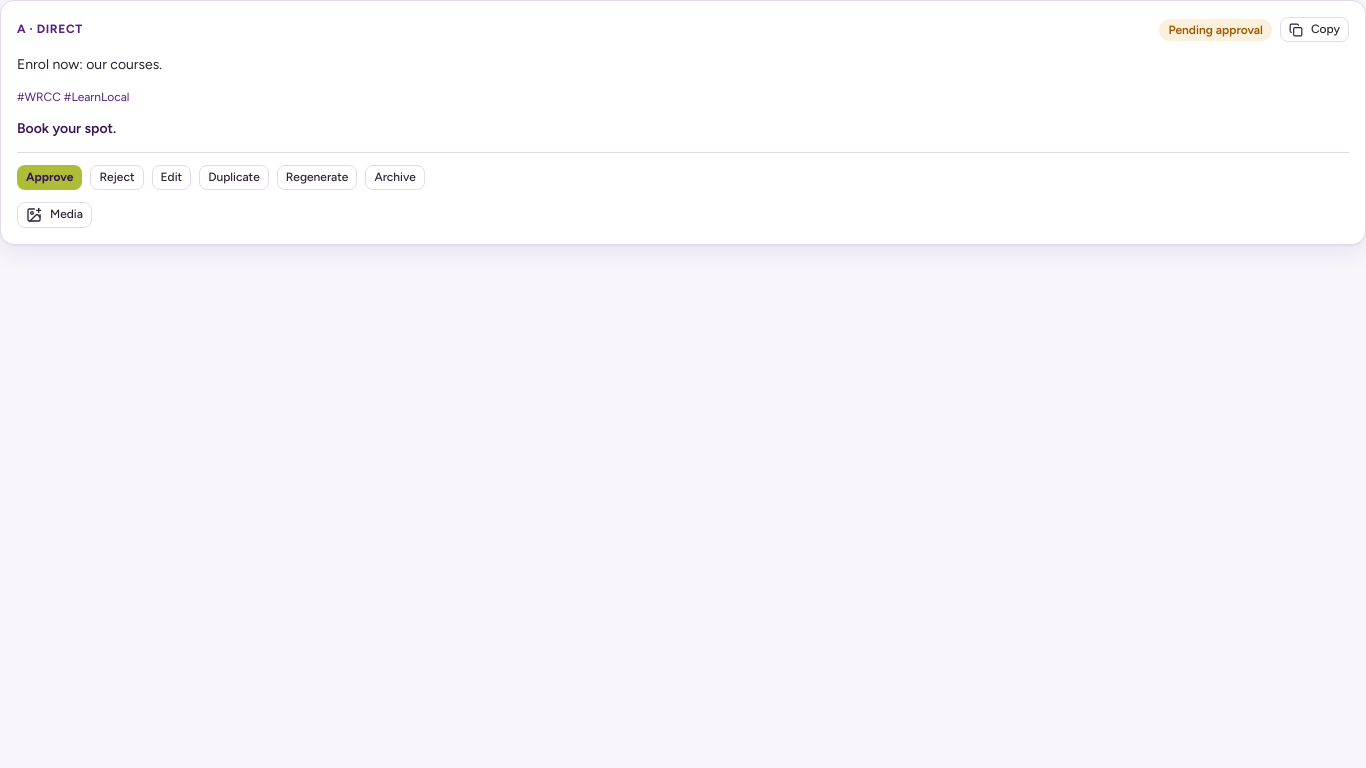
Test: VariantCard prompted actions › asks for a rejection reason in the app and sends it with the action
The width and height of the screenshot is (1366, 768).
Click the button "Reject" at (117, 178), box [90,165,144,190]
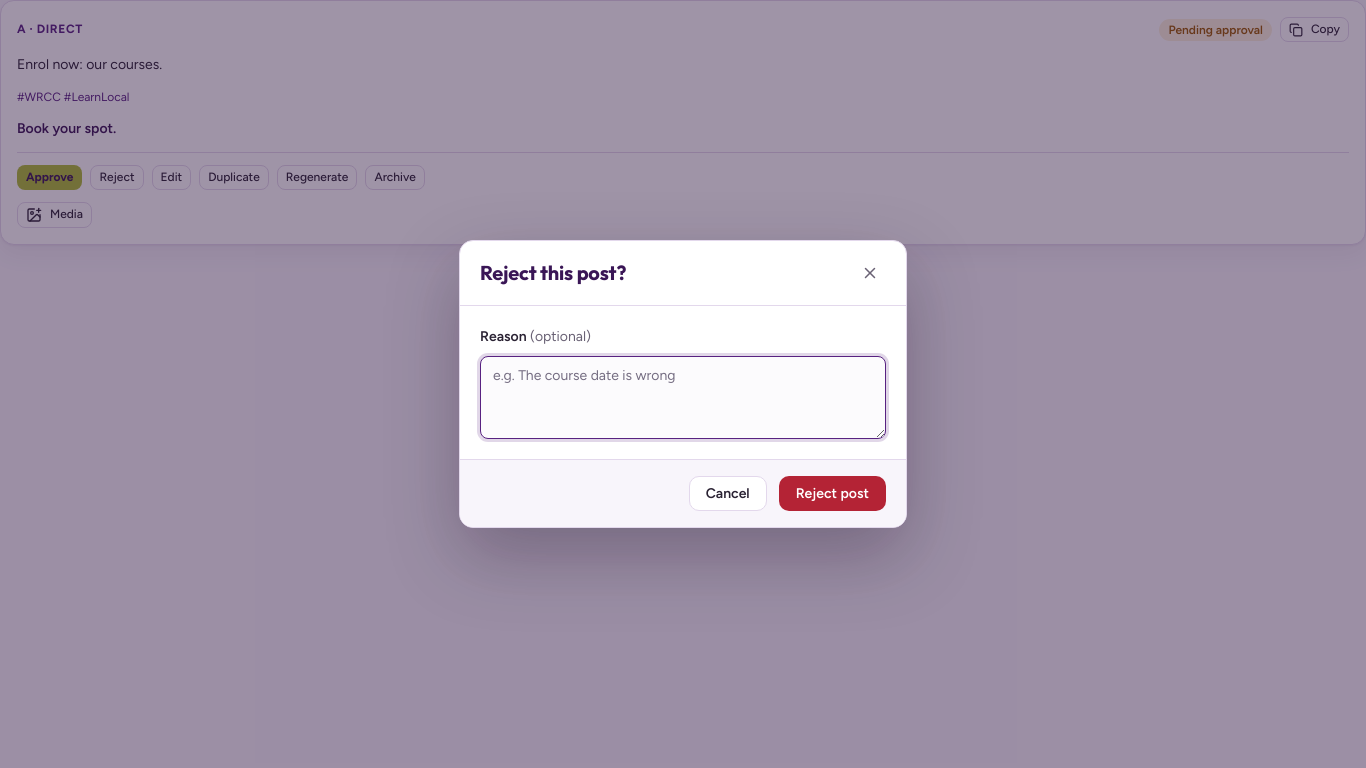
Type "Wrong course date." into the text box labelled "Reason (optional)" at (683, 397), box [480,356,886,439]
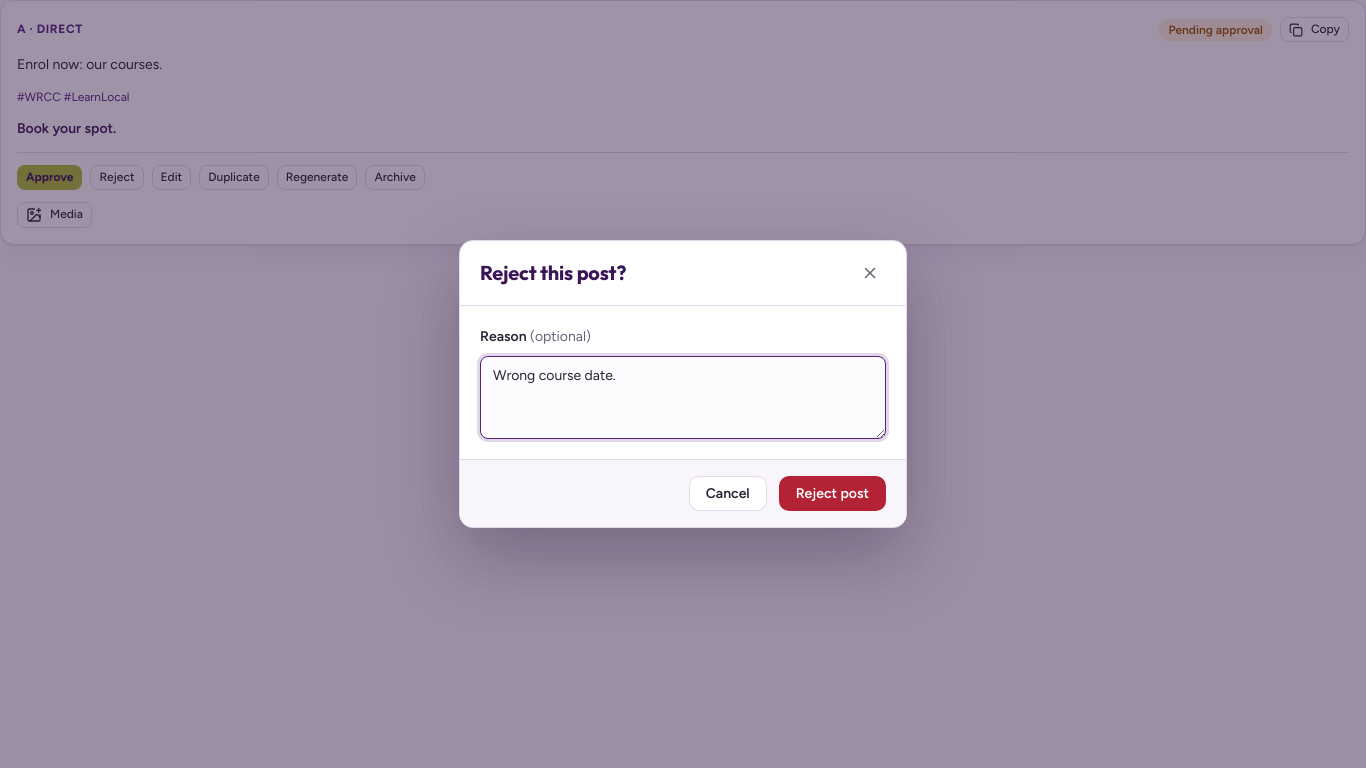
Click the button "Reject post" at (832, 493), box [779,476,886,511]
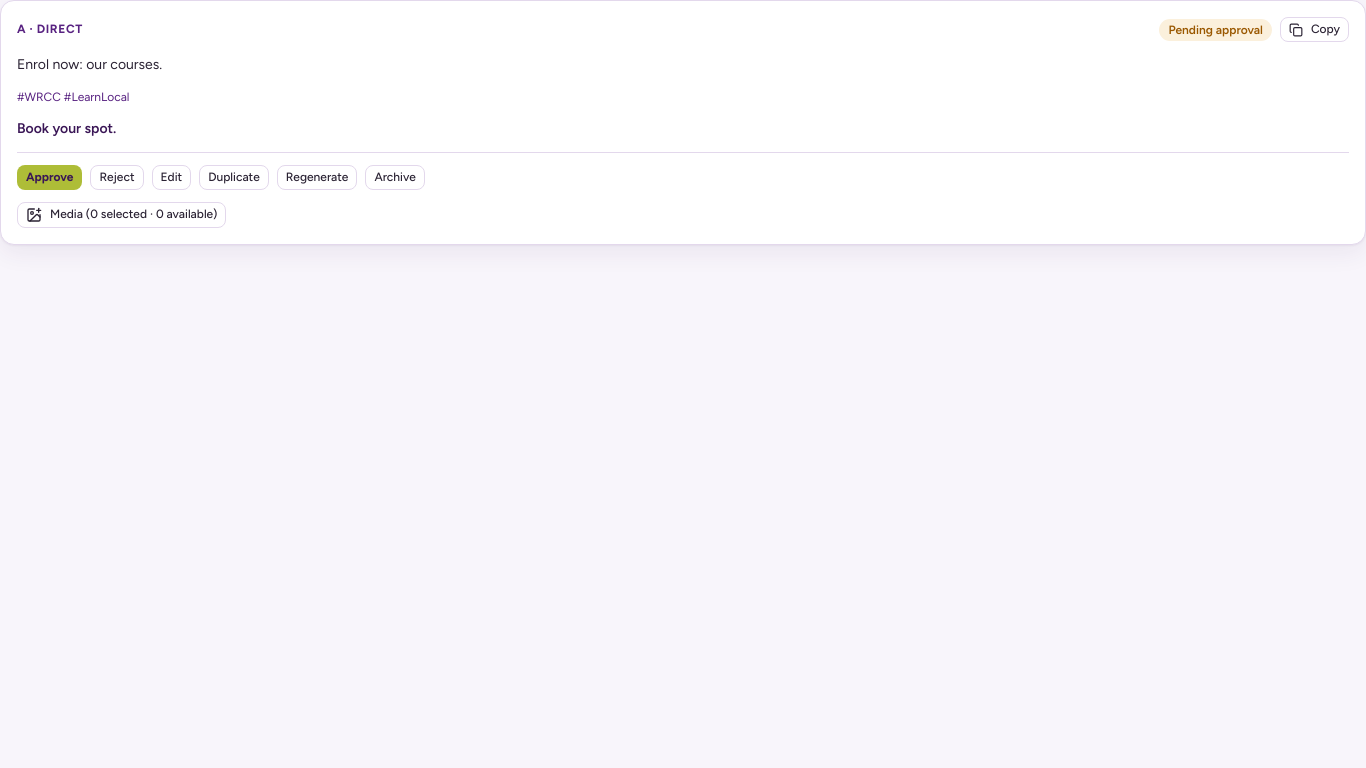
Expected: the dialog is gone
